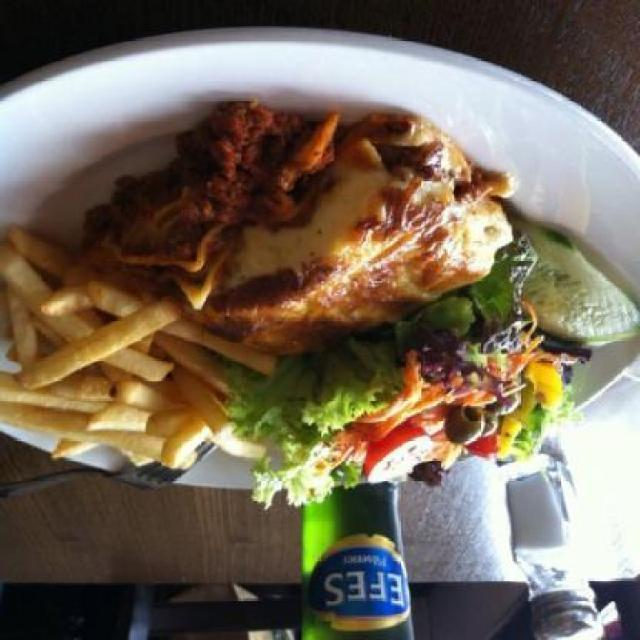Pasta: (153, 119, 490, 328)
